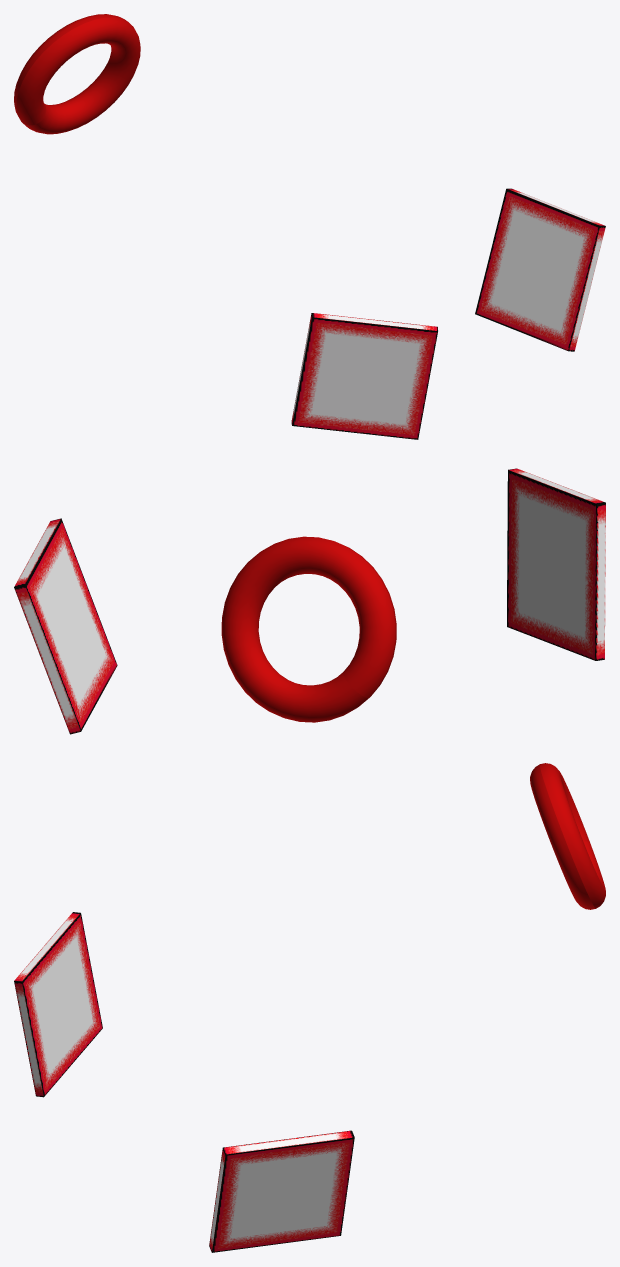
File: bouncelevel2panels.fbx
The picture shows the model from 3 angles, top to bottom: view 1: azimuth 30°, elevation 25°; view 2: azimuth 150°, elevation 25°; view 3: azimuth 270°, elevation 25°; orthographic projection. The views are drawn at different scales.
Parts seen in each view (by area): view 1: Cube2; view 2: Cube2; view 3: Cube2.
Part boxes in pixels (bbox=[...]): Cube2: bbox=[14, 14, 605, 439]; Cube2: bbox=[14, 468, 605, 734]; Cube2: bbox=[14, 763, 605, 1252].
Bounding box in the file's own units: 1163 × 769 × 1315.
1 material, 1 textured.
